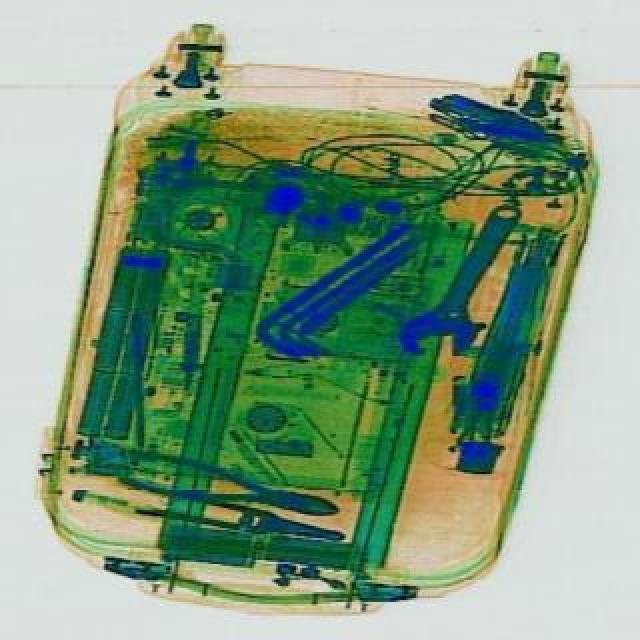scissors: (386, 188, 542, 372)
wrench: (114, 440, 344, 534), (132, 486, 342, 550)
